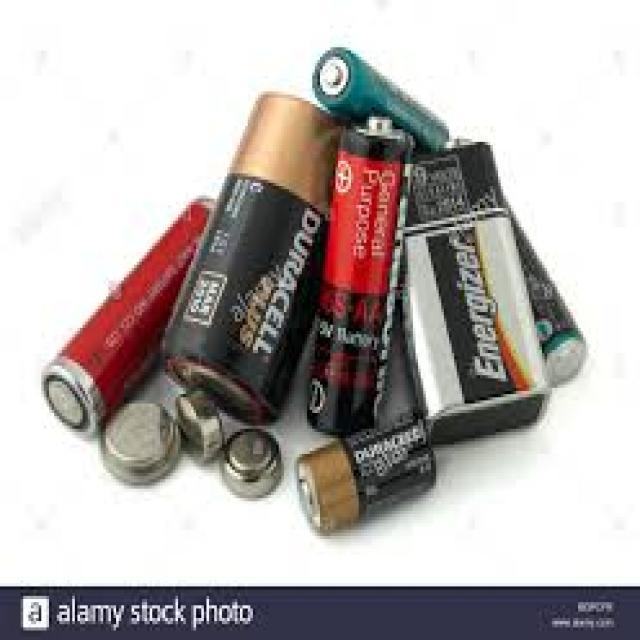battery: (162, 88, 339, 420), (391, 137, 550, 445), (38, 197, 214, 441), (286, 404, 440, 540), (308, 48, 451, 164)
